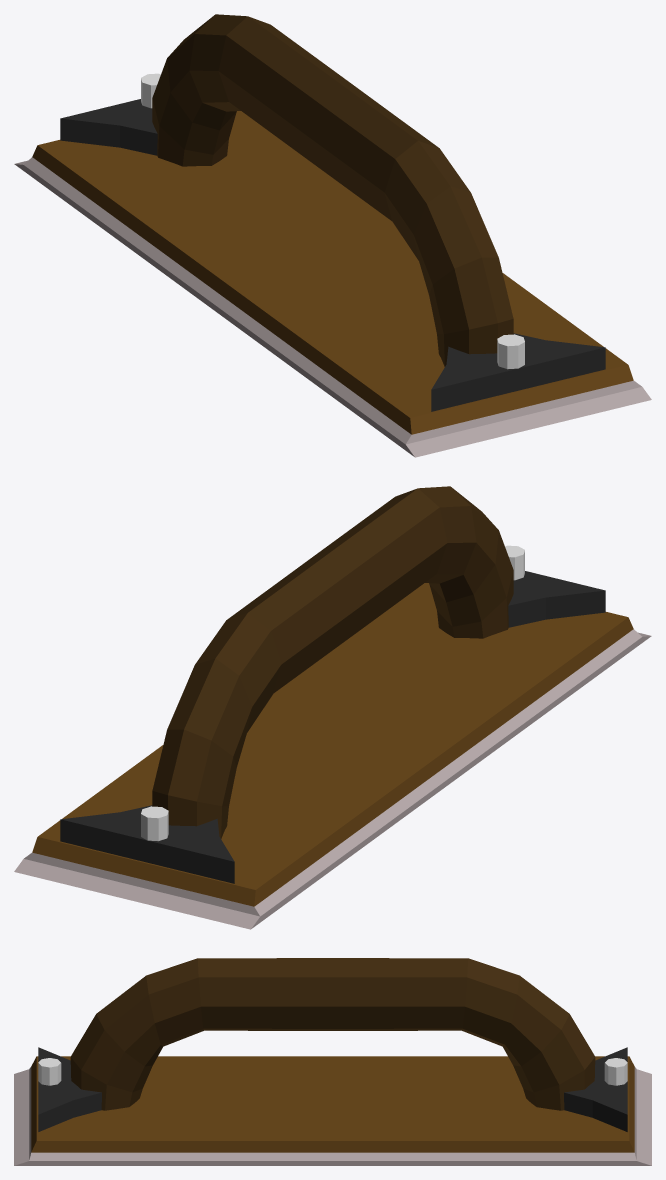
The model's file is G3_Prop_Lixa_1.fbx.
3 renders of one model, top to bottom at view 1: azimuth 30°, elevation 25°; view 2: azimuth 150°, elevation 25°; view 3: azimuth 270°, elevation 25°, orthographic. The views are drawn at different scales.
Parts seen in each view (by area): view 1: Cylinder.021; view 2: Cylinder.021; view 3: Cylinder.021.
Boxes of the visible parts, left/top/right/bottom form: Cylinder.021: left=14, top=14, right=651, bottom=457; Cylinder.021: left=14, top=486, right=651, bottom=929; Cylinder.021: left=14, top=958, right=651, bottom=1165.
Bounding box in the file's own units: 250 × 206 × 735.
